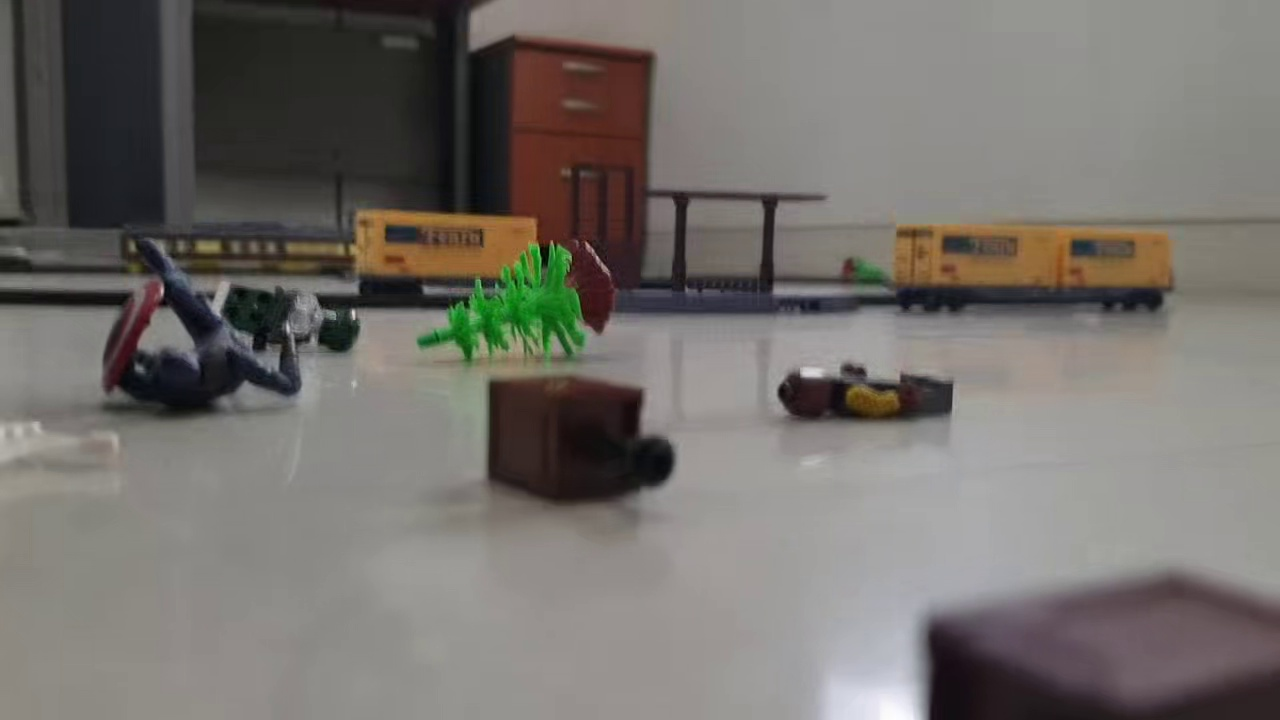box: (924, 562, 1280, 720), (481, 371, 677, 507)
people: (97, 227, 306, 419), (203, 273, 363, 358), (775, 357, 955, 424)
tree: (414, 235, 618, 369), (837, 256, 890, 282)
web: (1, 417, 119, 480)
